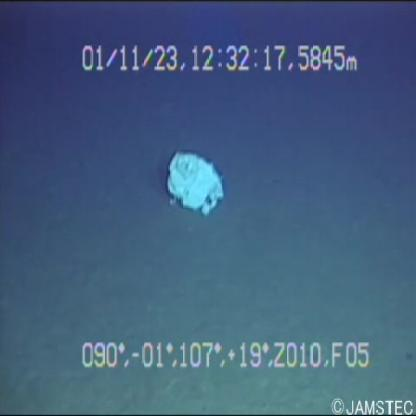Rác: (155, 146, 235, 230)
